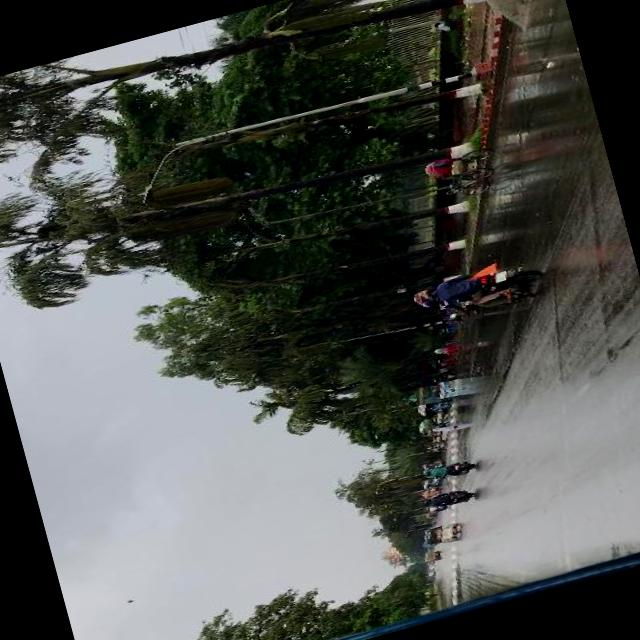motorcycle: (407, 253, 549, 329), (419, 143, 502, 204), (419, 483, 478, 512), (420, 453, 478, 482), (420, 518, 463, 548), (422, 501, 446, 513)
truck: (422, 546, 440, 561)
